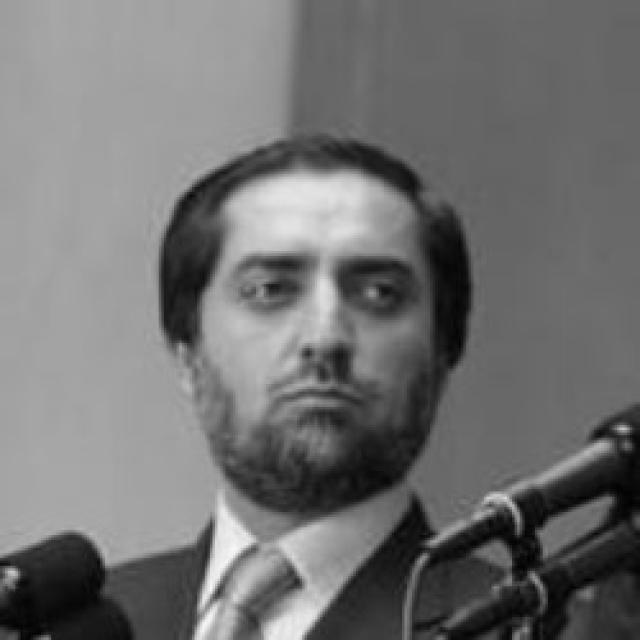real: (202, 170, 442, 499), (225, 249, 427, 326)
